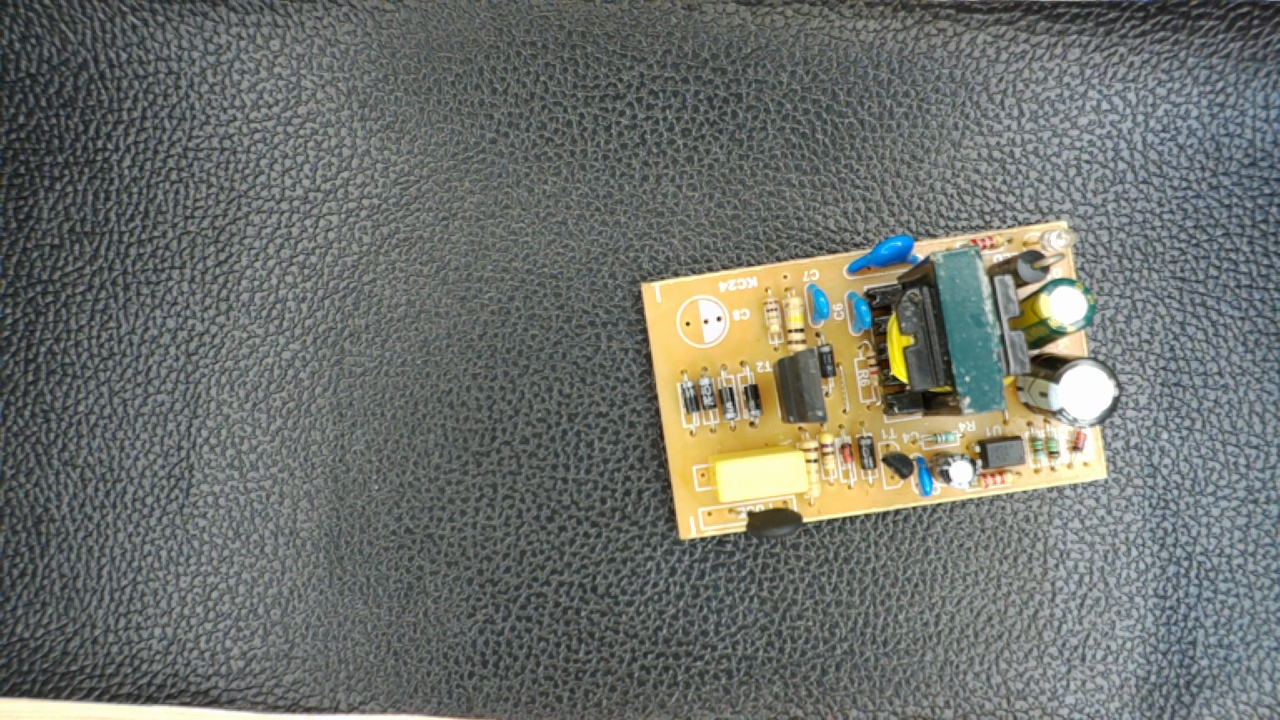fuse: (713, 500, 810, 540)
mov: (837, 236, 930, 278)
optocoupler: (968, 431, 1026, 473)
